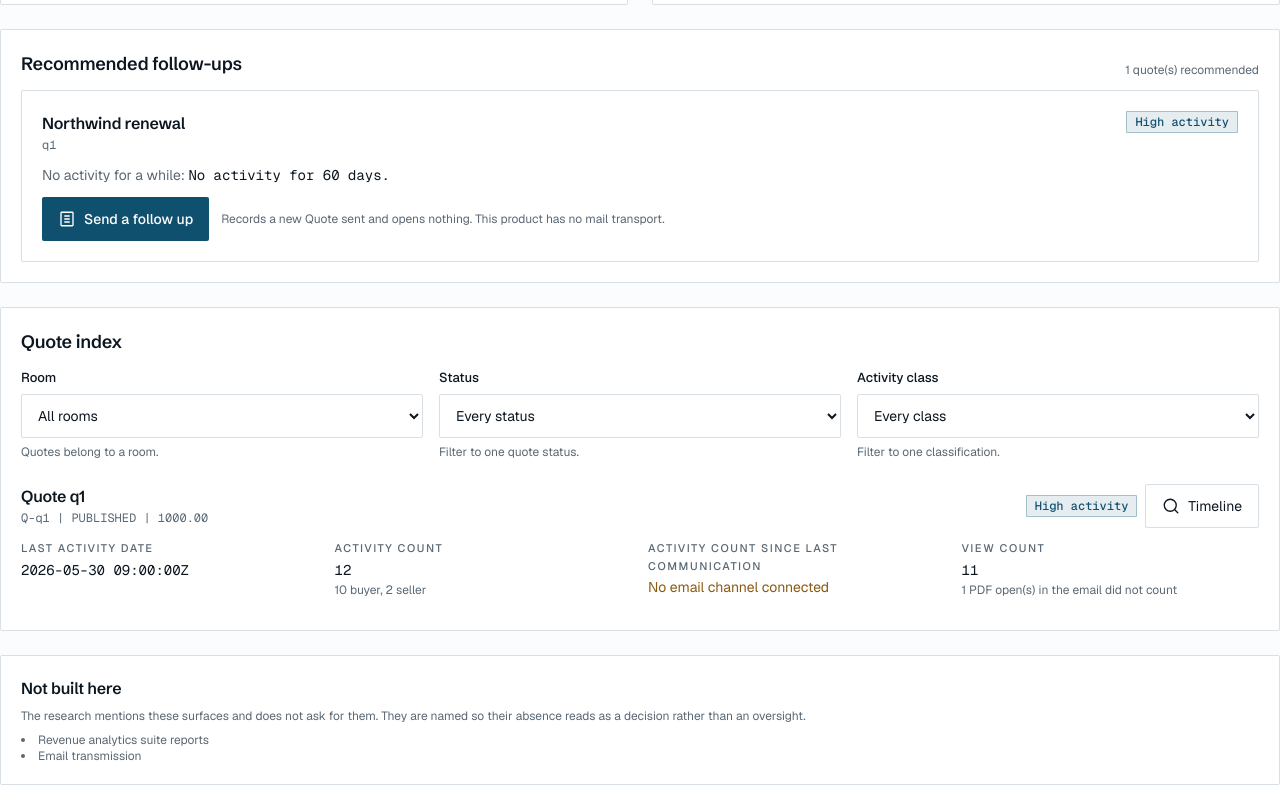
Scenario: the page › opens the timeline for one quote and reads the same answer the card shows
(page scrolled)
Click the button "Timeline" at [1202, 506], box [1145,484,1259,528]
(page scrolled)
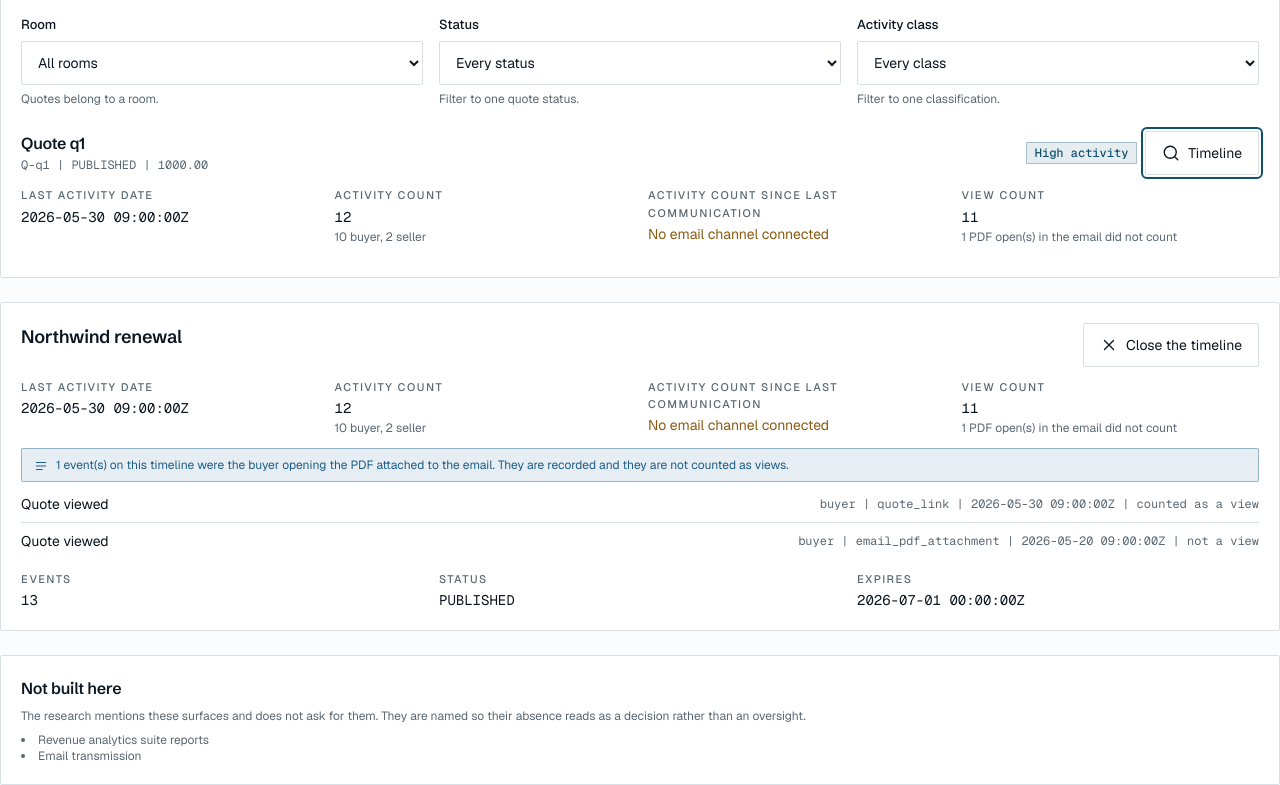
Check: the text "1 event(s) on this timeline" is shown, box [56,457,789,473]
